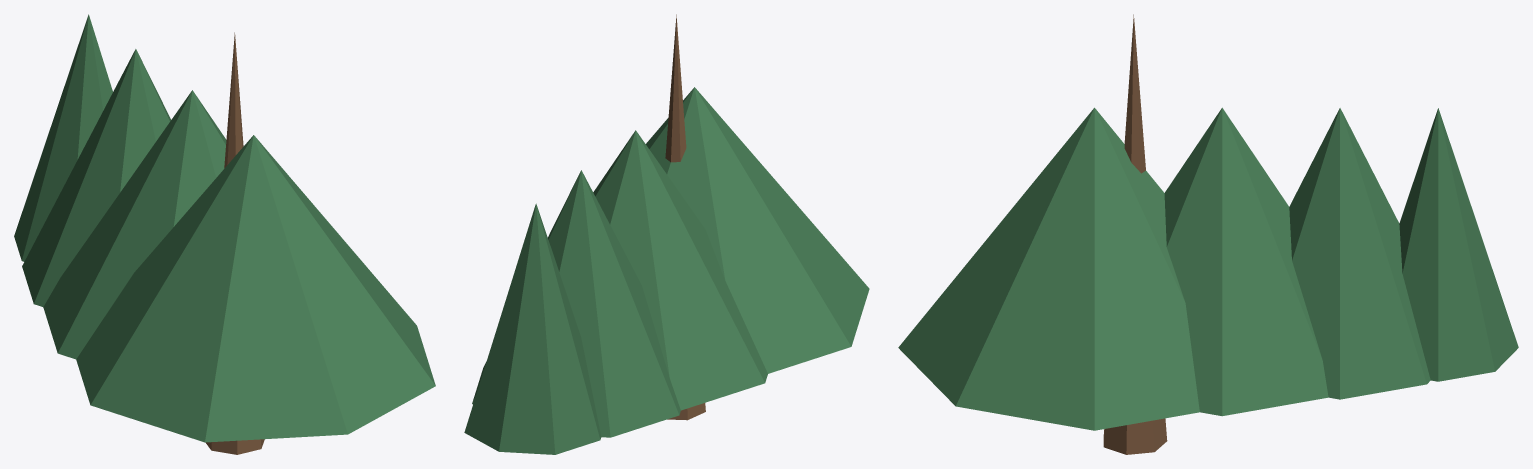
Rendered from atlas_pine_tree.glb.
3 views of the same model, side by side, from view 1: azimuth 30°, elevation 25°; view 2: azimuth 150°, elevation 25°; view 3: azimuth 270°, elevation 25° (orthographic). The views are drawn at different scales.
Parts seen in each view (by area): view 1: Pine_Foliage, Pine_Foliage.001, Pine_Foliage.002, Pine_Foliage.003, Pine_Trunk; view 2: Pine_Foliage, Pine_Foliage.001, Pine_Foliage.003, Pine_Foliage.002, Pine_Trunk; view 3: Pine_Foliage, Pine_Foliage.001, Pine_Foliage.002, Pine_Foliage.003, Pine_Trunk.
Boxes of the visible parts, x1,y1,x2,y2 form: Pine_Foliage: (76, 135, 435, 442); Pine_Foliage.001: (43, 90, 226, 359); Pine_Foliage.002: (22, 49, 170, 306); Pine_Foliage.003: (14, 14, 112, 261); Pine_Trunk: (205, 32, 264, 454); Pine_Foliage: (646, 87, 869, 373); Pine_Foliage.001: (593, 130, 767, 410); Pine_Foliage.003: (464, 203, 601, 454); Pine_Foliage.002: (472, 170, 680, 437); Pine_Trunk: (665, 14, 705, 420); Pine_Foliage: (898, 107, 1199, 430); Pine_Foliage.001: (1164, 107, 1328, 416); Pine_Foliage.002: (1289, 108, 1430, 399); Pine_Foliage.003: (1399, 108, 1518, 381); Pine_Trunk: (1103, 14, 1167, 454).
Bounding box in the file's own units: 4 × 4.8 × 6.32.
